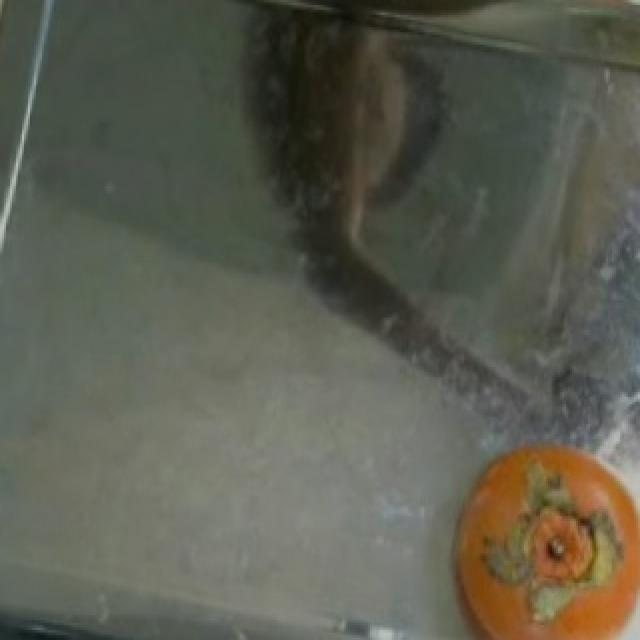Fruit: (432, 419, 634, 640)
